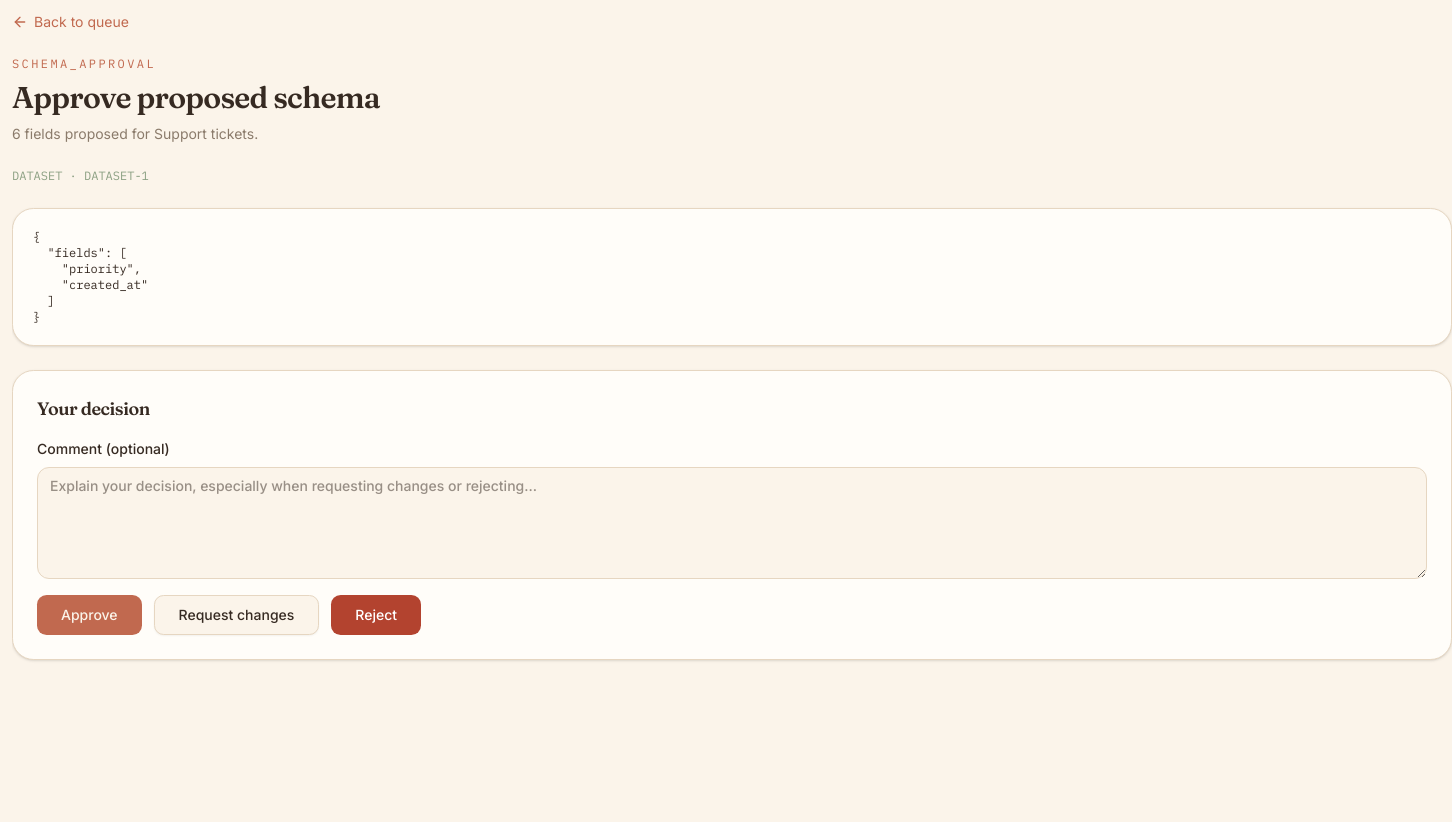
review detail › renders the review payload and submits an approve decision
The image size is (1452, 822).
Check: the heading "Approve proposed schema" is shown, box [12,80,380,116]
Type "looks good" into the text box labelled "Comment (optional)" at (732, 523), box [37,467,1427,579]
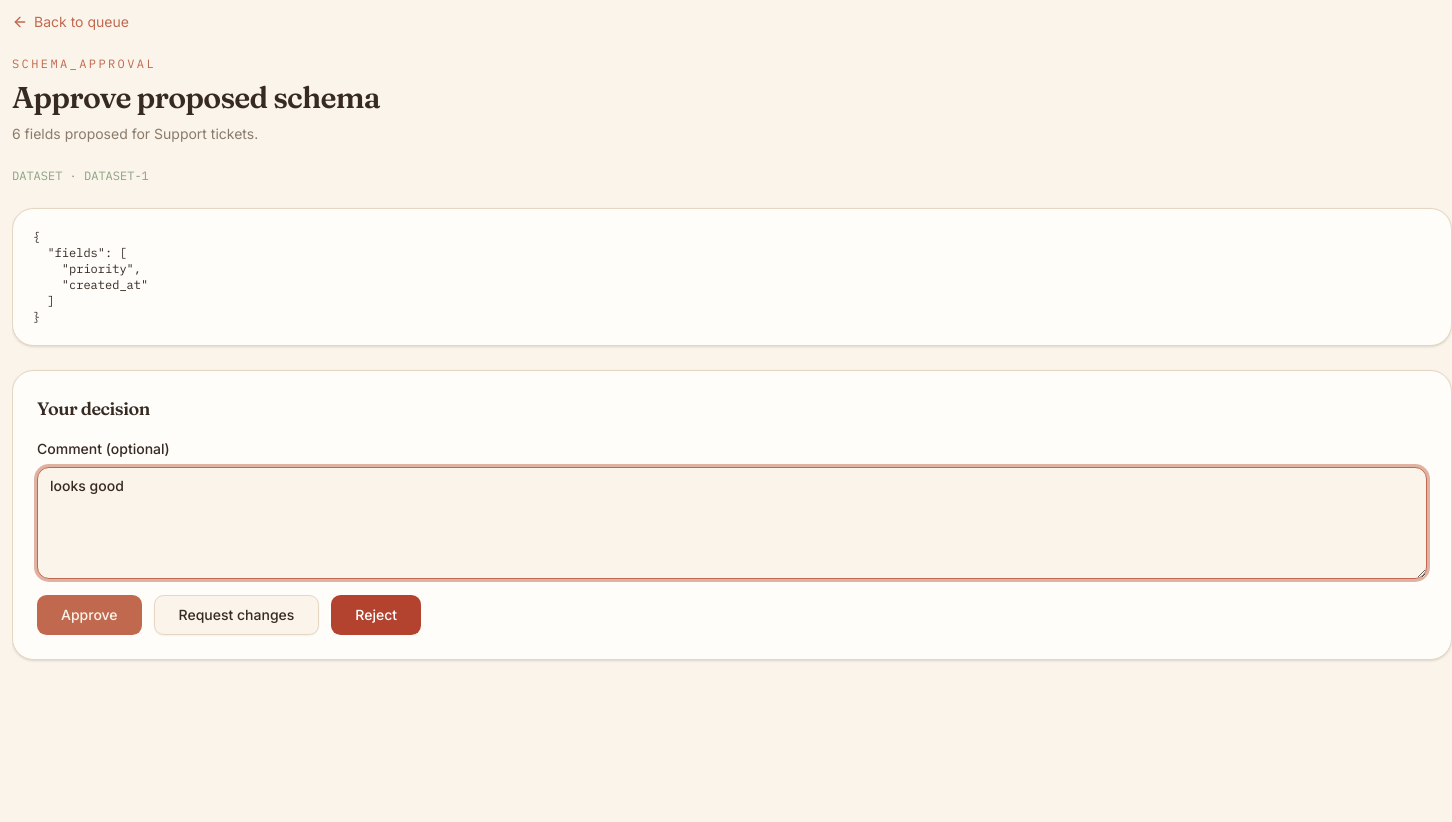
Click the button "Approve" at (89, 615), box [37,595,142,635]
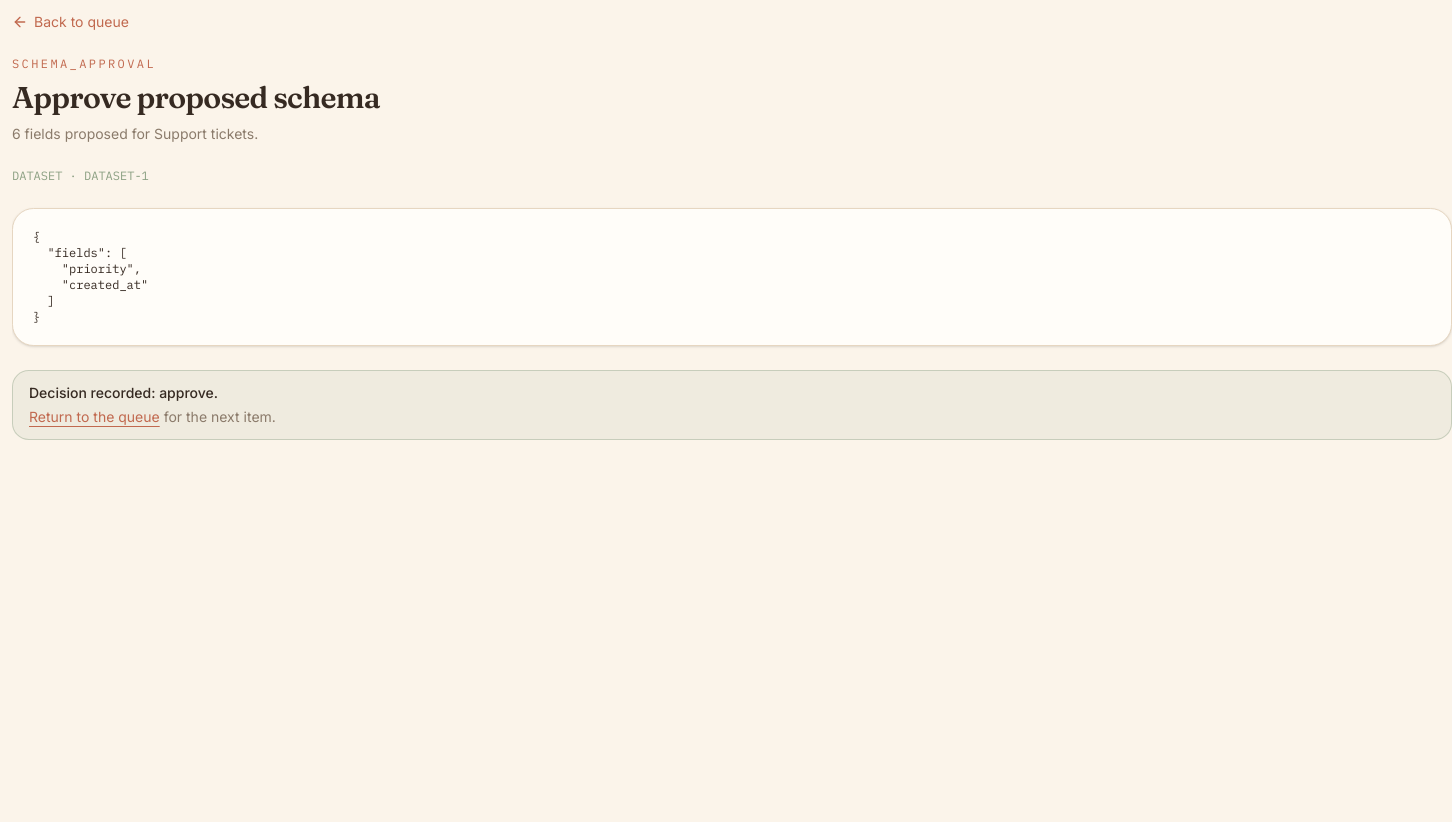
Check: the text "Decision recorded: approve." is shown, box [29,384,218,401]
